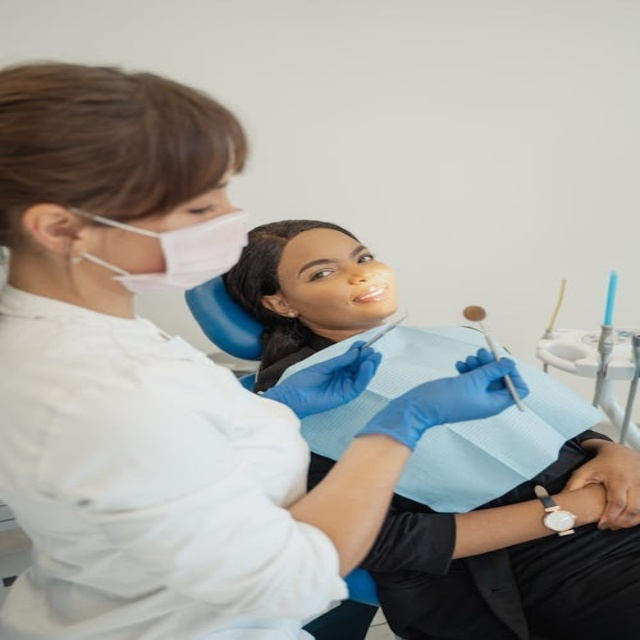Guantes: (349, 343, 529, 445), (256, 337, 389, 410)
Mascara: (71, 201, 250, 292)
Sin_gafas: (137, 171, 239, 222), (285, 241, 378, 288)
Sin_guantes: (559, 442, 640, 531)
Sin_mascara: (337, 279, 398, 318)
